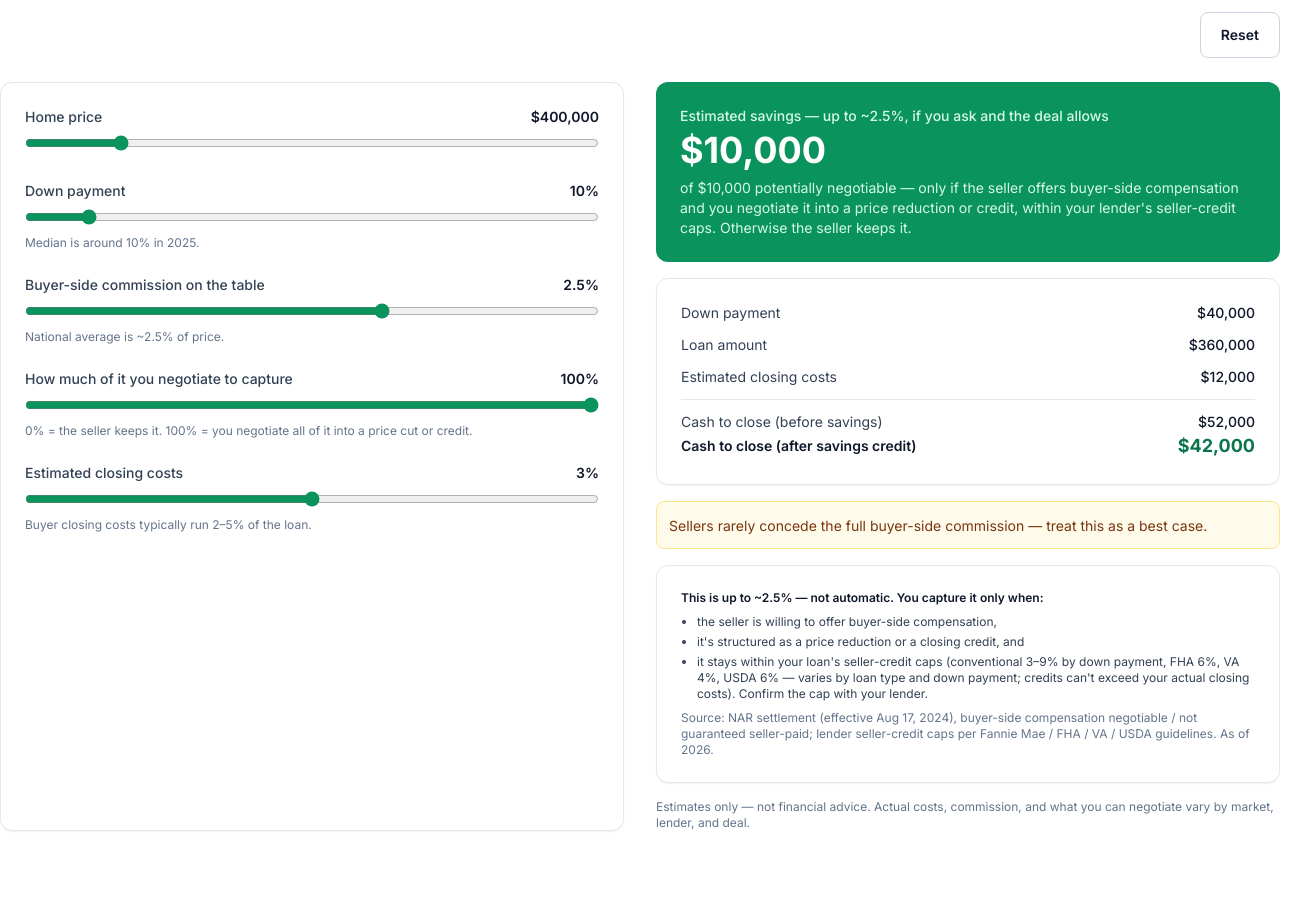
Test: SavingsCalculator › hides the sanity note once the flagged input is corrected
The width and height of the screenshot is (1292, 912).
Expected: the element with test id "sanity-note" is shown, [656,501,1280,549]
// Drop capture below 100% → the only flagged condition clears.
Set the slider labelled "How much of it you negotiate to capture" to "80" at (479, 405), box [25,397,599,413]
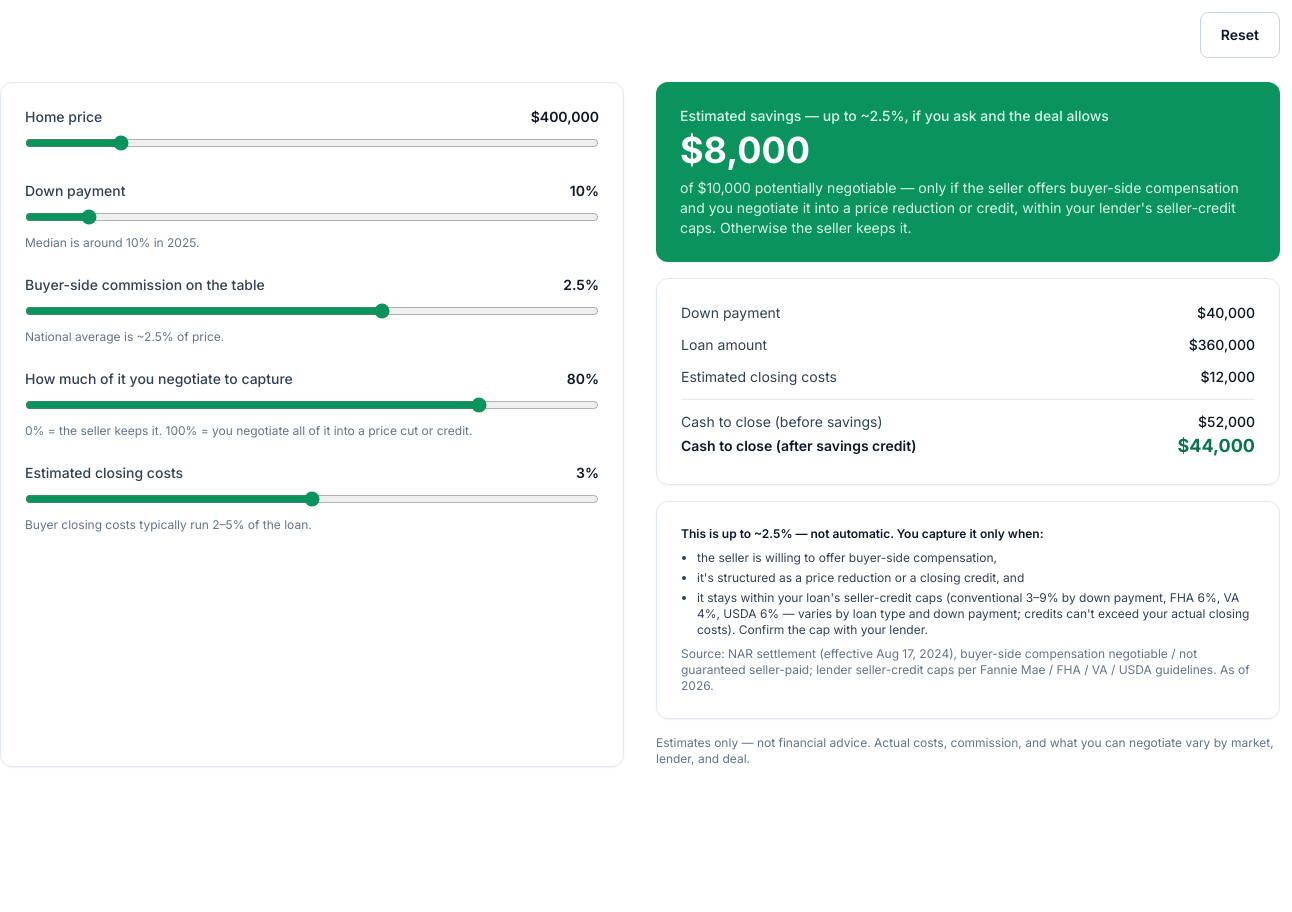
Expected: the element with test id "sanity-note" is gone
